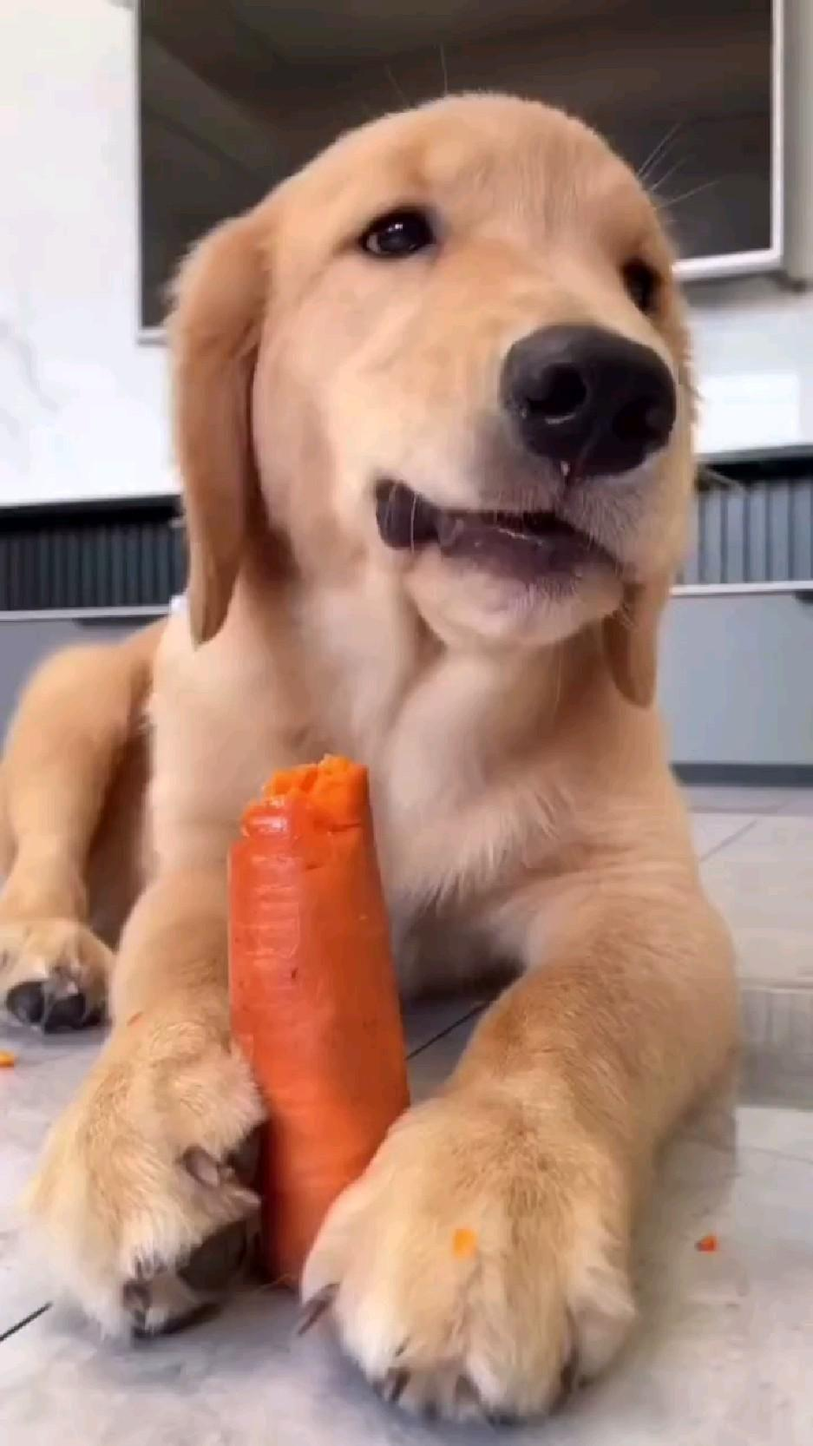puppy-dog: (0, 80, 747, 1422)
